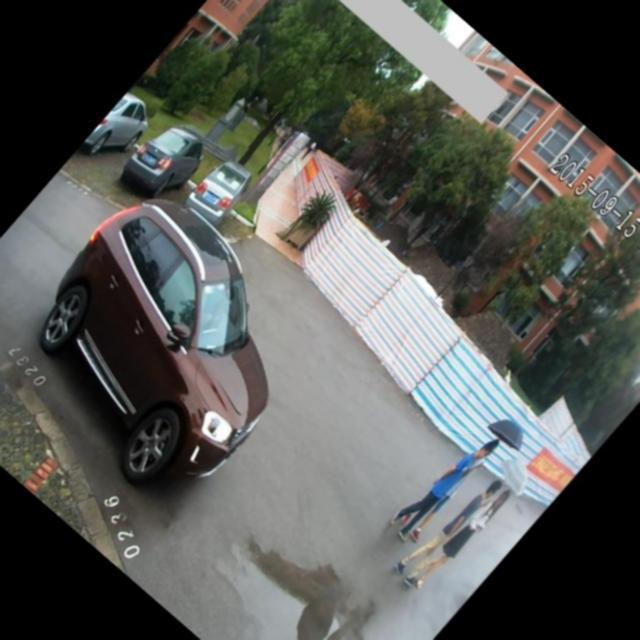person: (389, 460, 510, 594), (406, 482, 519, 608), (380, 426, 493, 550)
